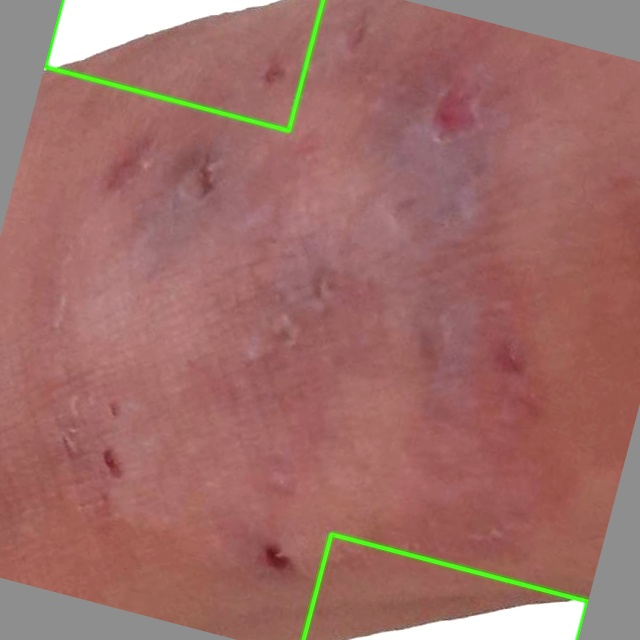Tinea Corporis: (45, 0, 322, 130)
